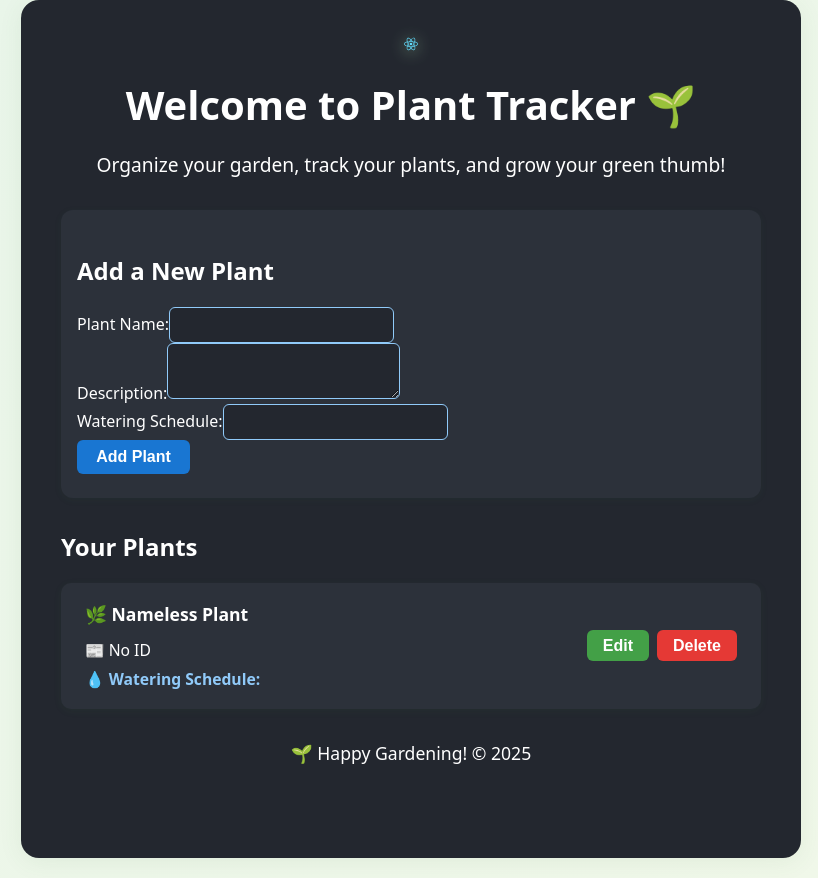
Test case: App Component Tests › shows error when deleting non-existent plant by name
Expected: the text "Nameless Plant" is shown, [112,602,248,626]
Click the button "Delete": [697, 646] box [657,630,737,661]
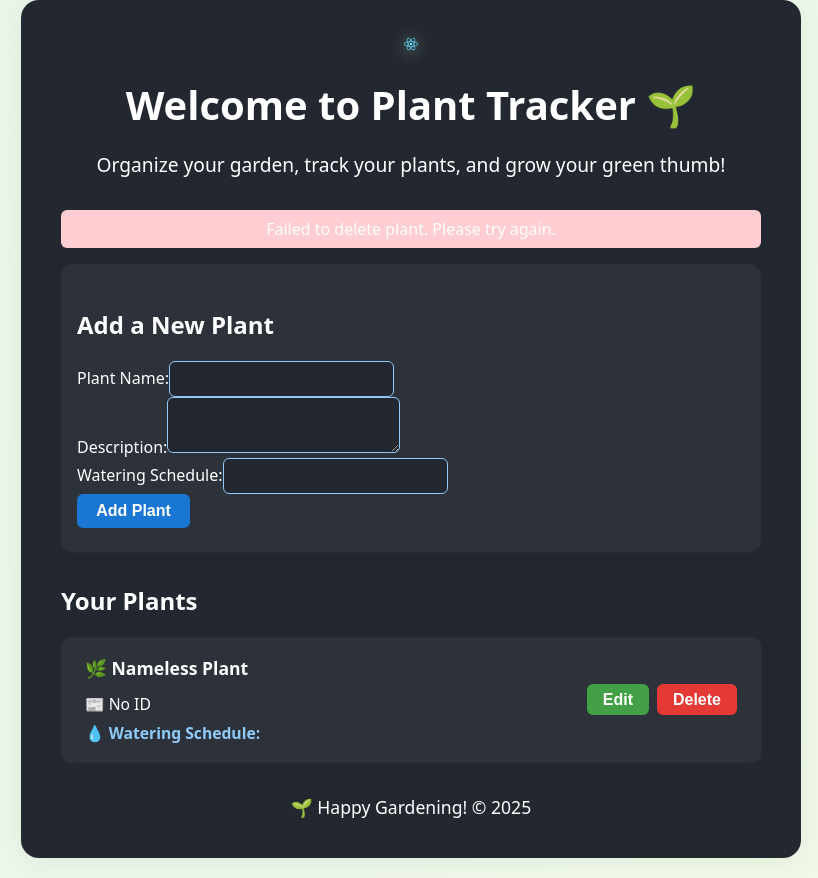
Expected: the text "Failed to delete plant. Please try again." is shown, [61,210,761,248]
